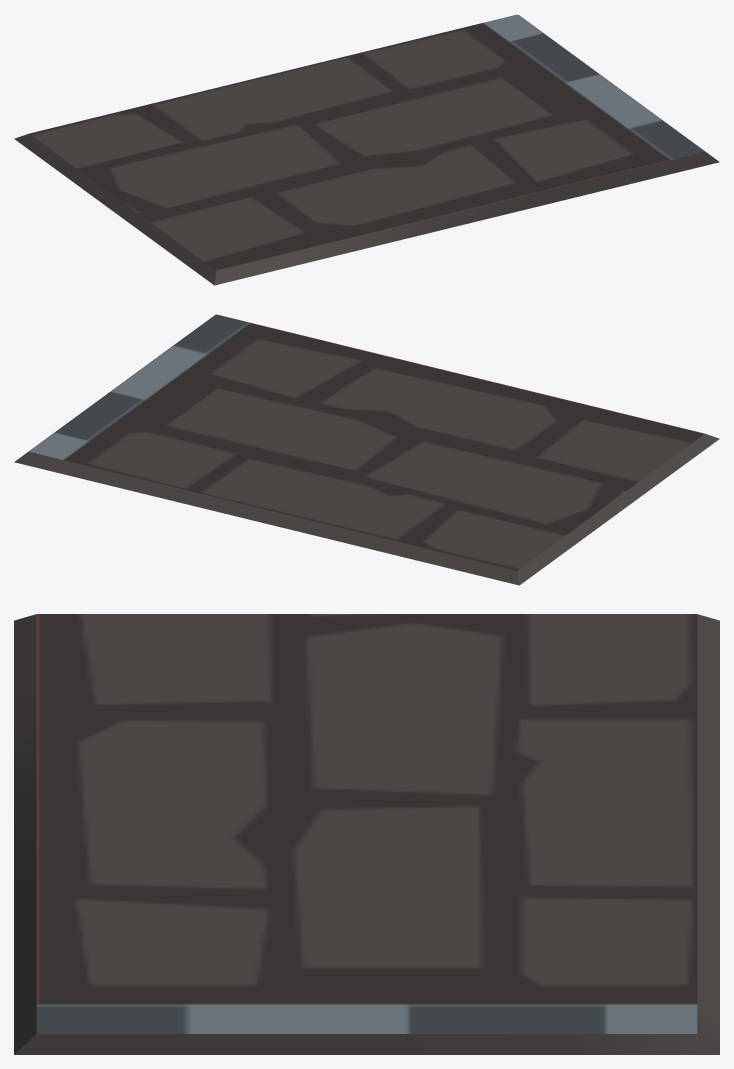
The model's file is Paper.fbx.
The picture shows the model from 3 angles, top to bottom: view 1: azimuth 30°, elevation 25°; view 2: azimuth 150°, elevation 25°; view 3: azimuth 270°, elevation 25°; orthographic projection. The views are drawn at different scales.
Visible parts, largest first — view 1: Paper; view 2: Paper; view 3: Paper.
Boxes of the visible parts, x1,y1,x2,y2 form: Paper: [14, 14, 719, 285]; Paper: [14, 314, 719, 585]; Paper: [14, 614, 719, 1054].
Size of the model in its own units: 0.03 by 0.000444 by 0.0206.
1 material, 1 textured.
